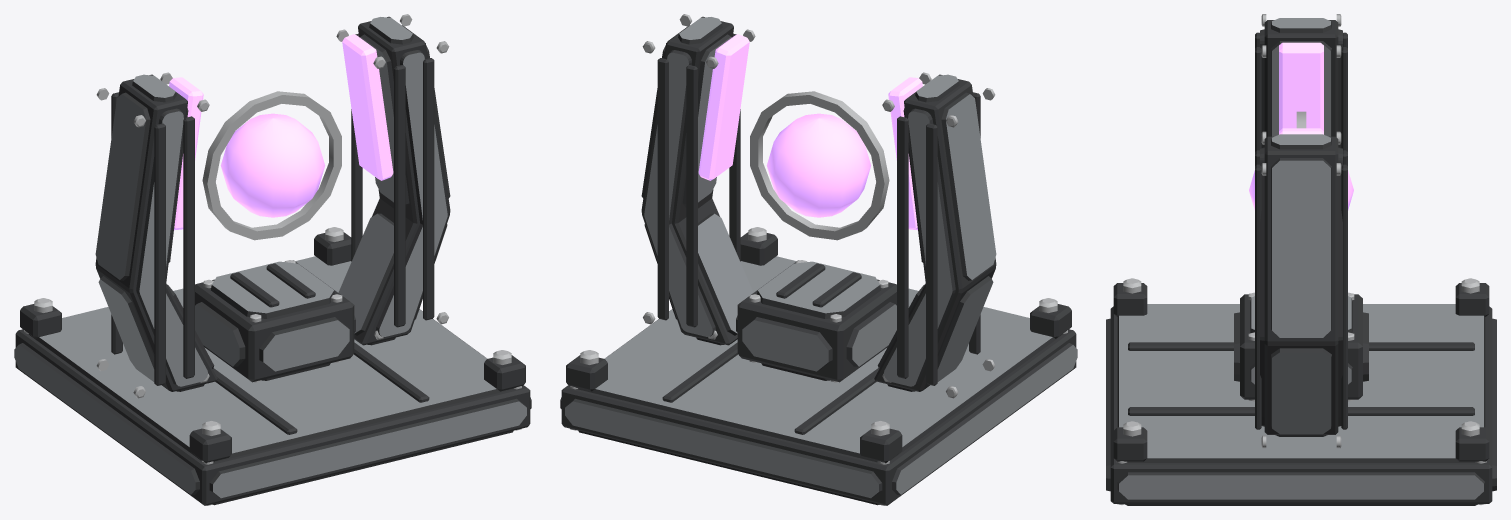
Rendered from R4X_Blink.fbx.
3 views of the same model, side by side, from view 1: azimuth 30°, elevation 25°; view 2: azimuth 150°, elevation 25°; view 3: azimuth 270°, elevation 25° (orthographic).
Visible parts, largest first — view 1: R4X_Blink_Body; view 2: R4X_Blink_Body; view 3: R4X_Blink_Body.
Part boxes in pixels (x1,y1,x2,y2): R4X_Blink_Body: (14,14,531,505); R4X_Blink_Body: (560,14,1077,505); R4X_Blink_Body: (1106,14,1496,505).
Bounding box in the file's own units: 0.52 × 0.51 × 0.52.
